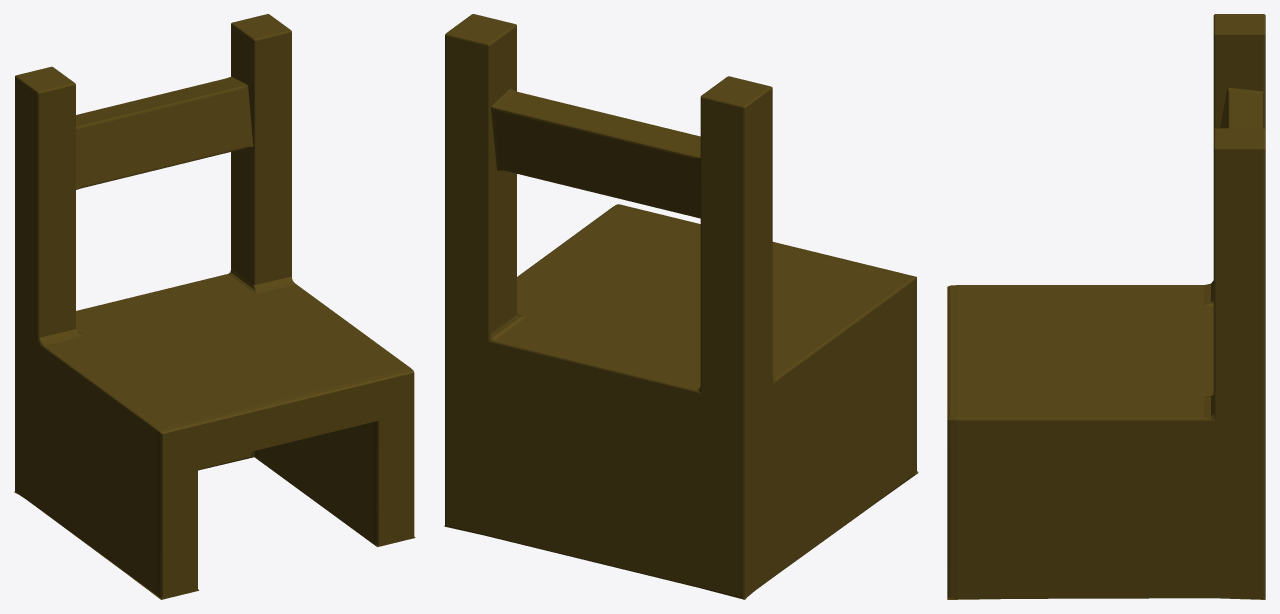
Rendered from chair1.glb.
3 renders of one model, left to right at view 1: azimuth 30°, elevation 25°; view 2: azimuth 150°, elevation 25°; view 3: azimuth 270°, elevation 25°, orthographic. The views are drawn at different scales.
Visible parts, largest first — view 1: Chair4.001; view 2: Chair4.001; view 3: Chair4.001.
Part boxes in pixels (<box>): Chair4.001: <box>14,14,415,599</box>; Chair4.001: <box>444,14,918,599</box>; Chair4.001: <box>947,14,1265,599</box>.
Size of the model in its own units: 2 by 3.13 by 2.
